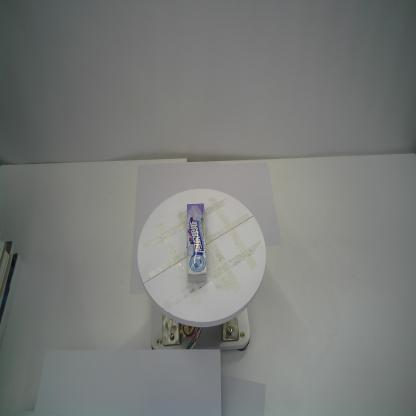Candy: (187, 204, 207, 283)
